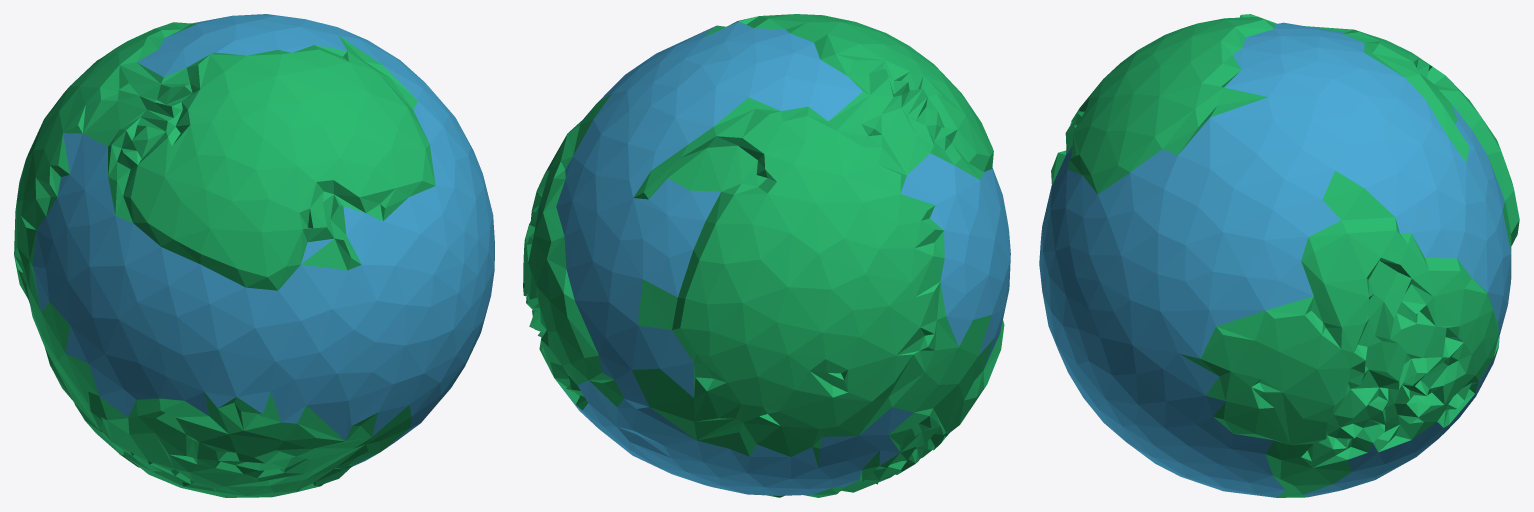
File: earth.glb
The picture shows the model from 3 angles, left to right: view 1: azimuth 30°, elevation 25°; view 2: azimuth 150°, elevation 25°; view 3: azimuth 270°, elevation 25°; orthographic projection.
Visible parts, largest first — view 1: Planet 11; view 2: Planet 11; view 3: Planet 11.
Part boxes in pixels (x1,y1,x2,y2): Planet 11: [14, 14, 494, 497]; Planet 11: [523, 14, 1010, 497]; Planet 11: [1039, 14, 1519, 497].
Bounding box in the file's own units: 8.37 × 8.41 × 8.37.
